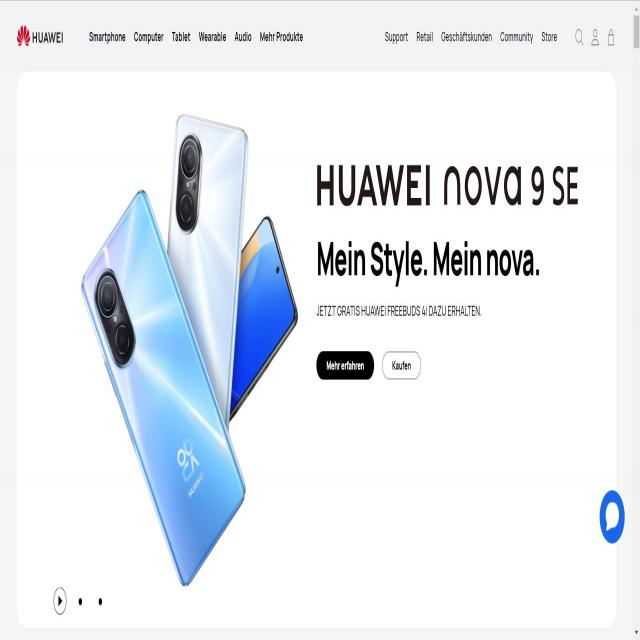button: (316, 348, 374, 382), (599, 484, 625, 548), (382, 350, 421, 381), (52, 585, 68, 617)
